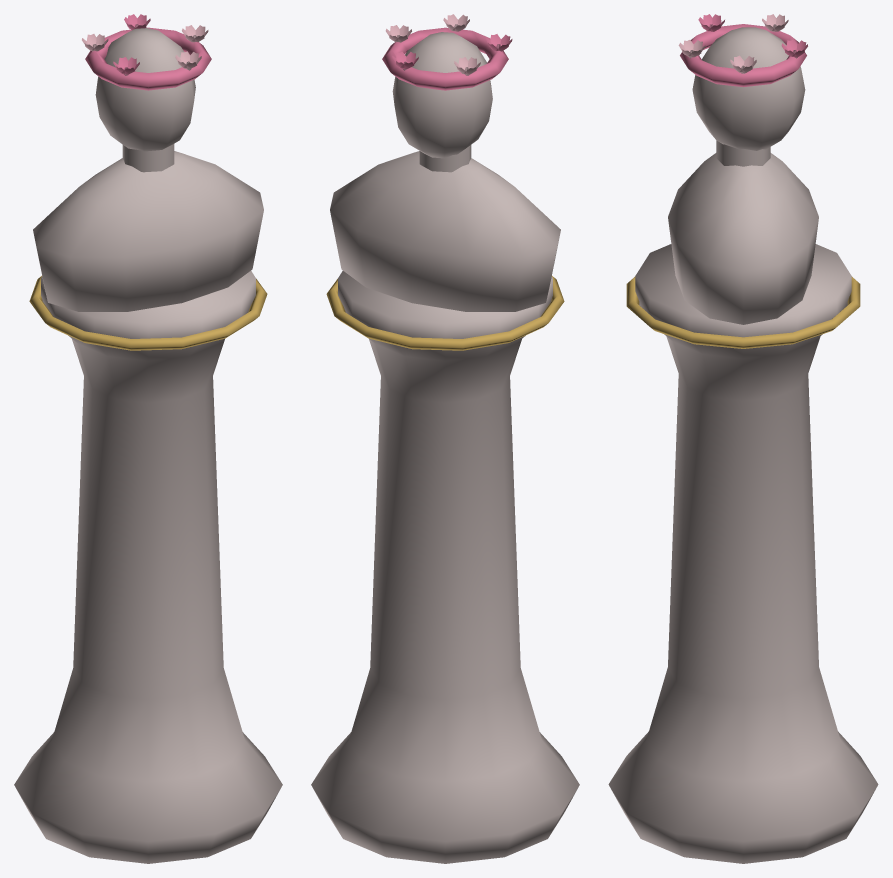
File: bust_pedestal.glb
3 renders of one model, left to right at view 1: azimuth 30°, elevation 25°; view 2: azimuth 150°, elevation 25°; view 3: azimuth 270°, elevation 25°, orthographic.
Visible parts, largest first — view 1: bust_pedestal; view 2: bust_pedestal; view 3: bust_pedestal.
Boxes of the visible parts, left/top/right/bottom form: bust_pedestal: left=14, top=14, right=282, bottom=863; bust_pedestal: left=311, top=14, right=579, bottom=863; bust_pedestal: left=608, top=14, right=878, bottom=863.
Size of what is drawn, in the model's own units: 0.5 by 1.6 by 0.5.
